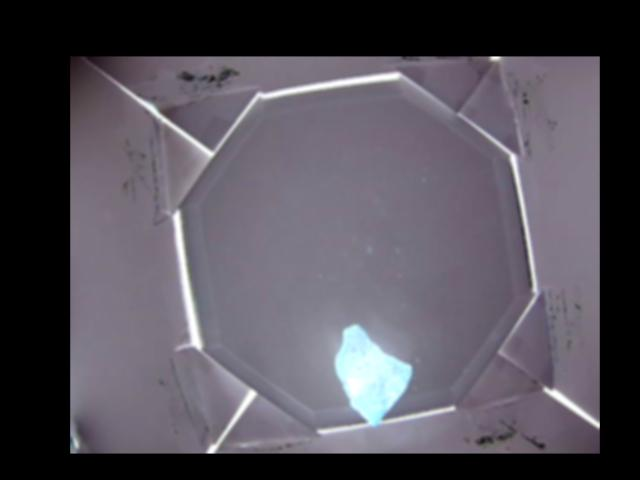Brisk: (334, 326, 413, 424)
